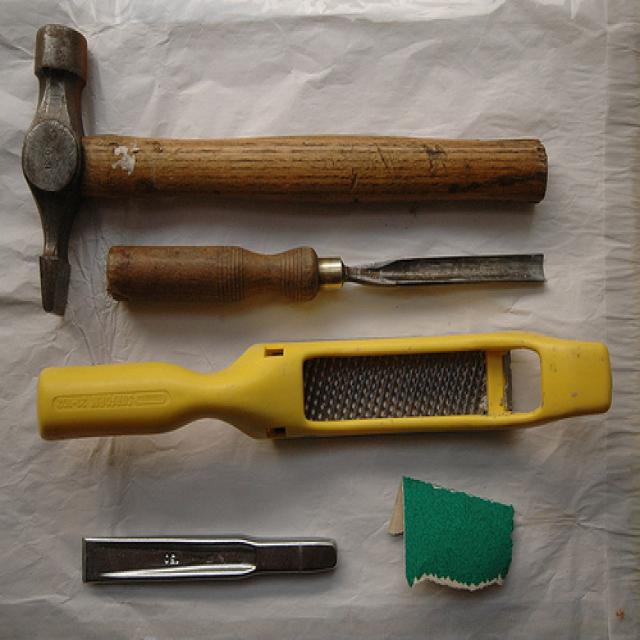hammer: (6, 9, 566, 298)
